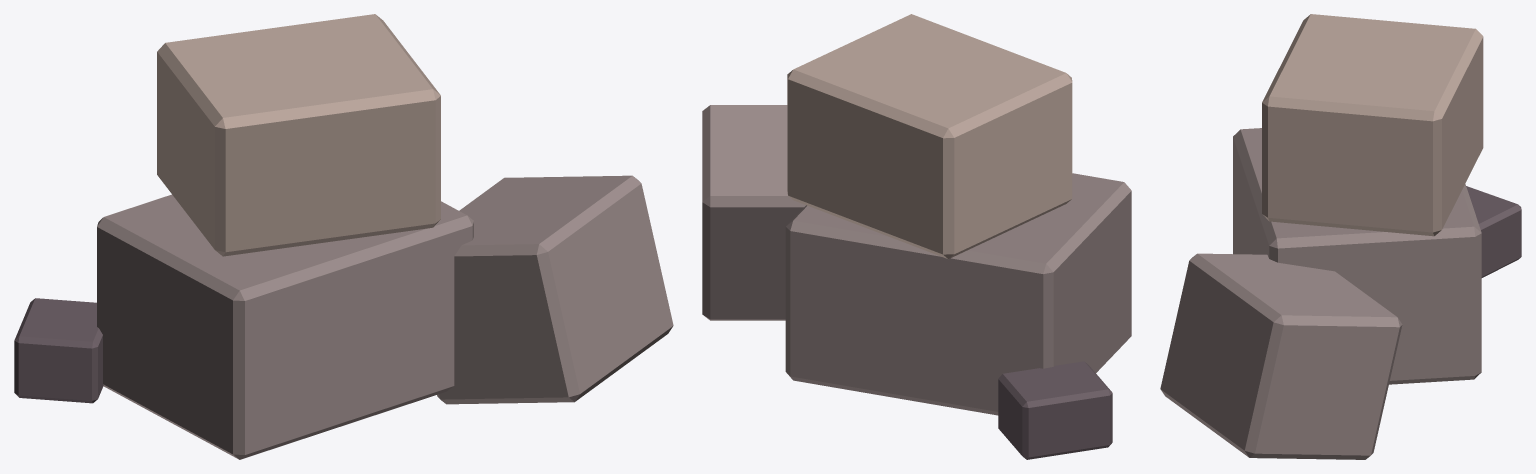
Rendered from Block_Ruin_A.fbx.
3 views of the same model, side by side, from view 1: azimuth 30°, elevation 25°; view 2: azimuth 150°, elevation 25°; view 3: azimuth 270°, elevation 25° (orthographic). The views are drawn at different scales.
Visible parts, largest first — view 1: Block_Ruin_A; view 2: Block_Ruin_A; view 3: Block_Ruin_A.
Part boxes in pixels (x1=…): Block_Ruin_A: x1=14, y1=14, x2=673, y2=459; Block_Ruin_A: x1=702, y1=14, x2=1131, y2=459; Block_Ruin_A: x1=1160, y1=14, x2=1521, y2=459.
Size of the model in its own units: 3.7 by 2.11 by 2.36.
